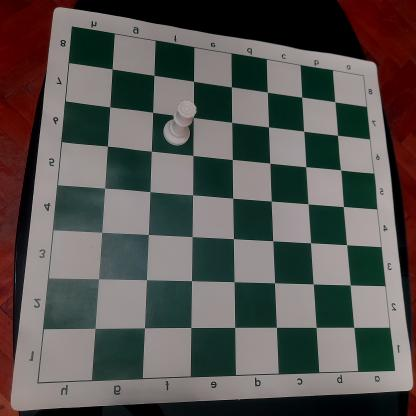white-queen: (160, 98, 198, 147)
